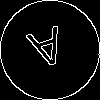A: (25, 25, 72, 79)
